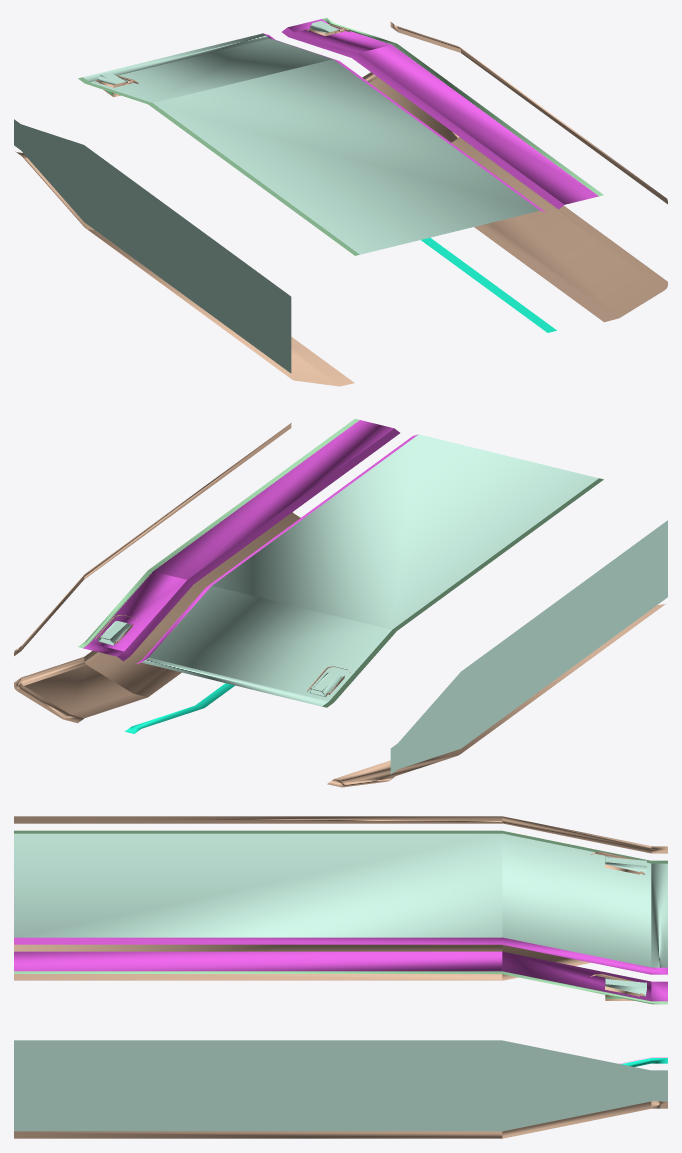
Rendered from docking_lobby_ext_b_lod2.glb.
3 views of the same model, one above another, from view 1: azimuth 30°, elevation 25°; view 2: azimuth 150°, elevation 25°; view 3: azimuth 270°, elevation 25° (orthographic). The views are drawn at different scales.
Size of the model in its own units: 61.99 by 20.01 by 79.
